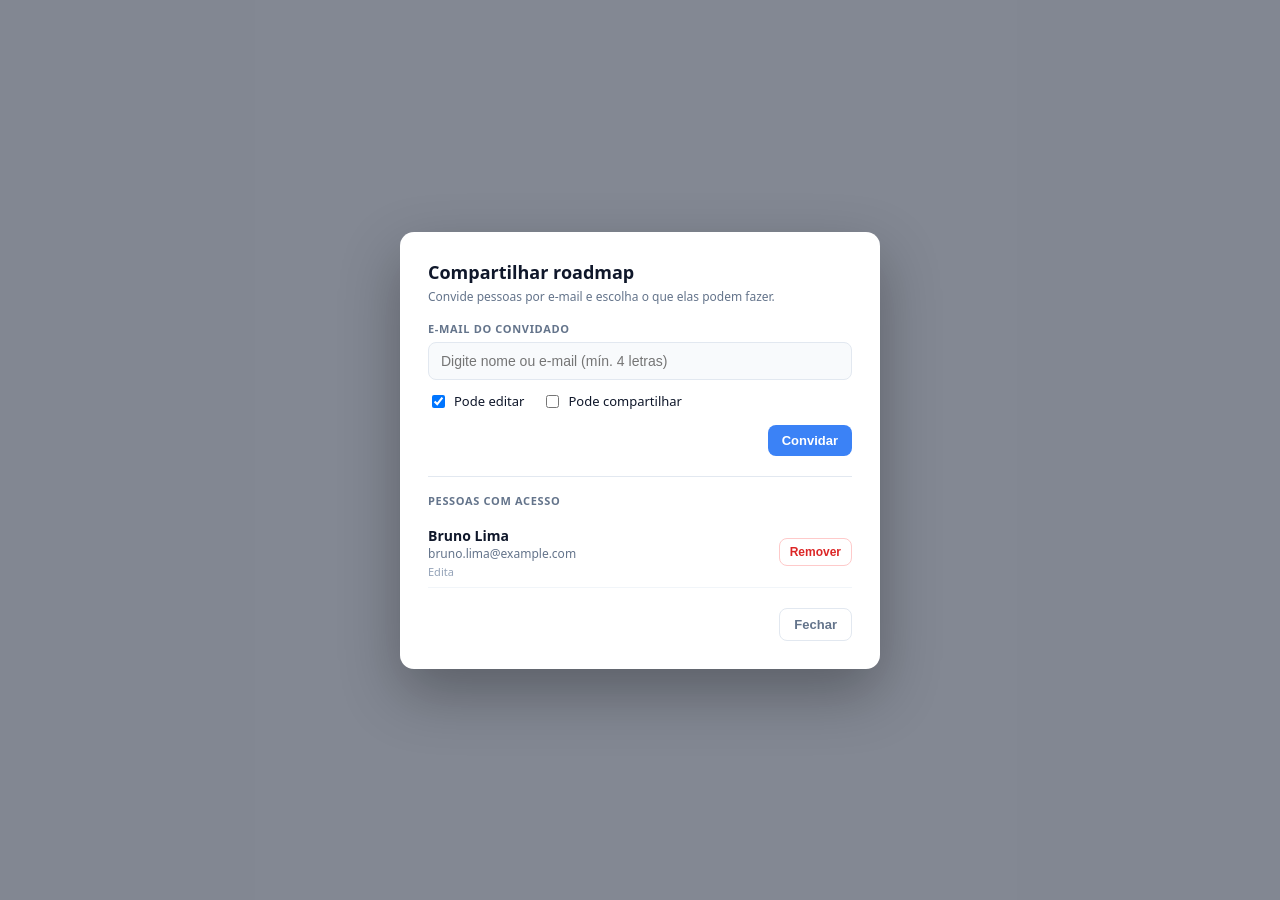
it: ShareDialog › mostra o aviso quando o e-mail não tem conta
Type "ninguem@x.com" into the field named "e-mail do convidado" at (640, 360), box [428,342,852,380]
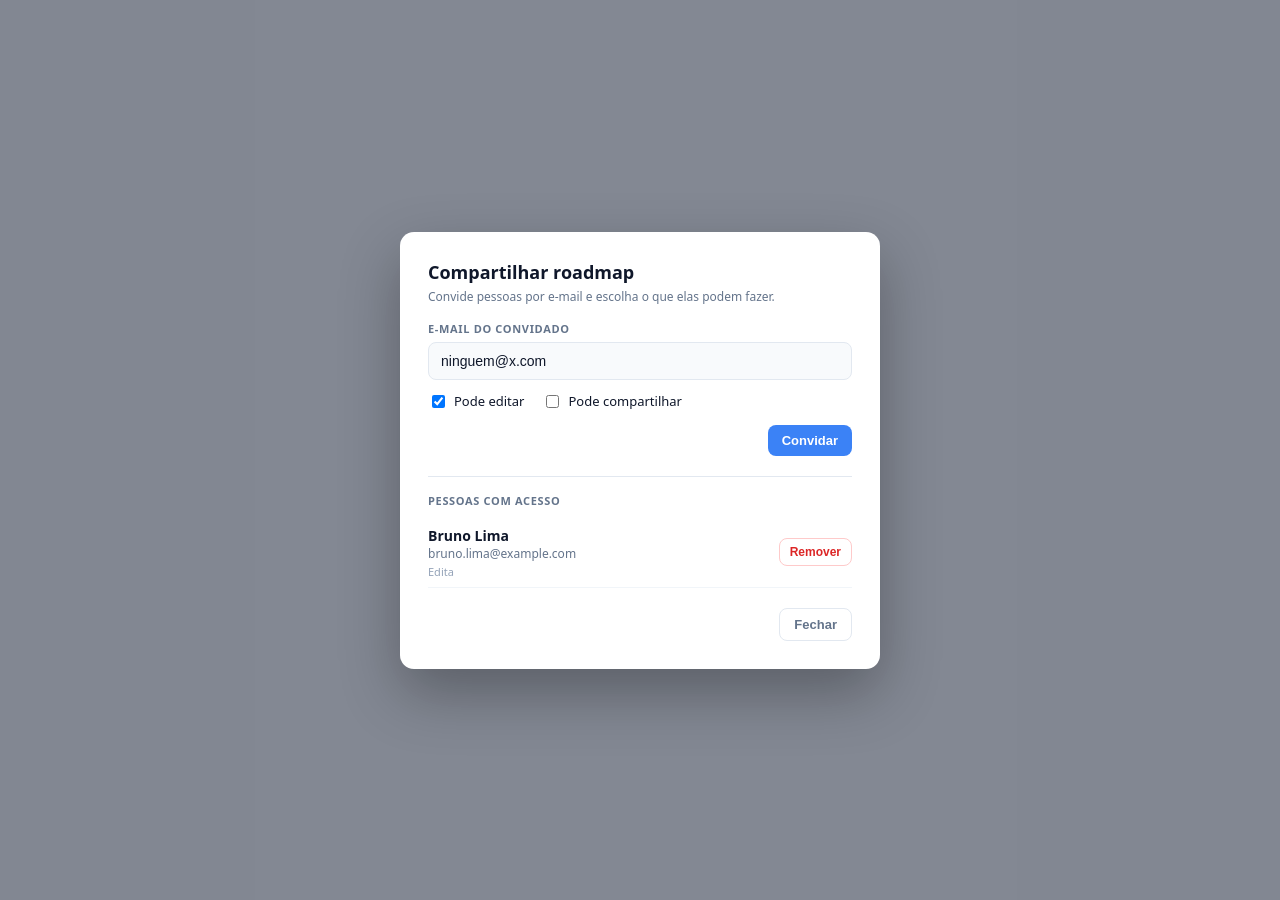
Click the button "Convidar" at (810, 440), box [768,424,852,456]
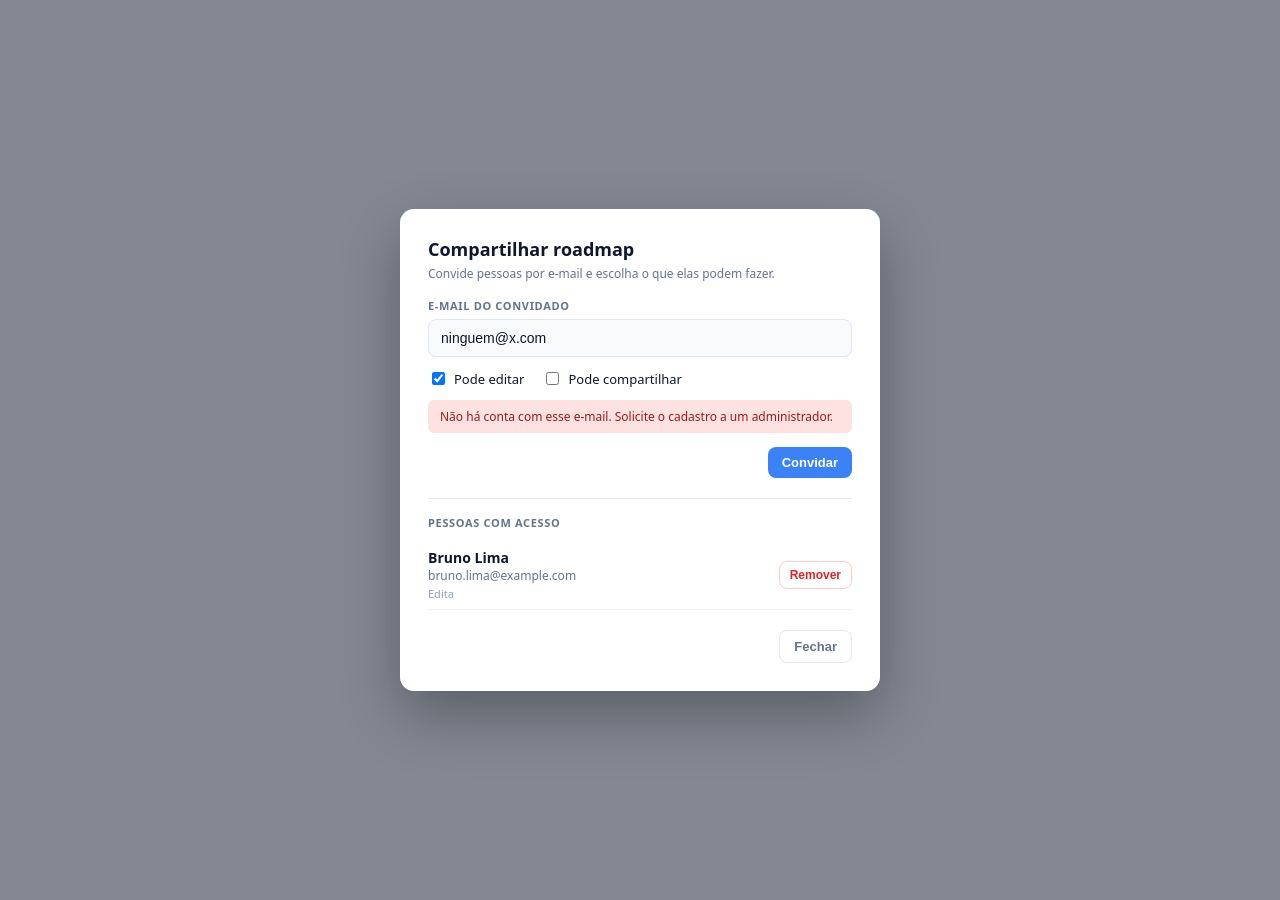
Result: the text "Solicite o cadastro a um administrador" is shown at [440,408,833,425]
